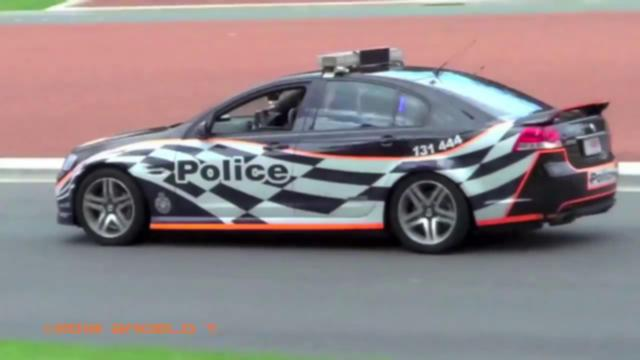police: (69, 45, 629, 248)
